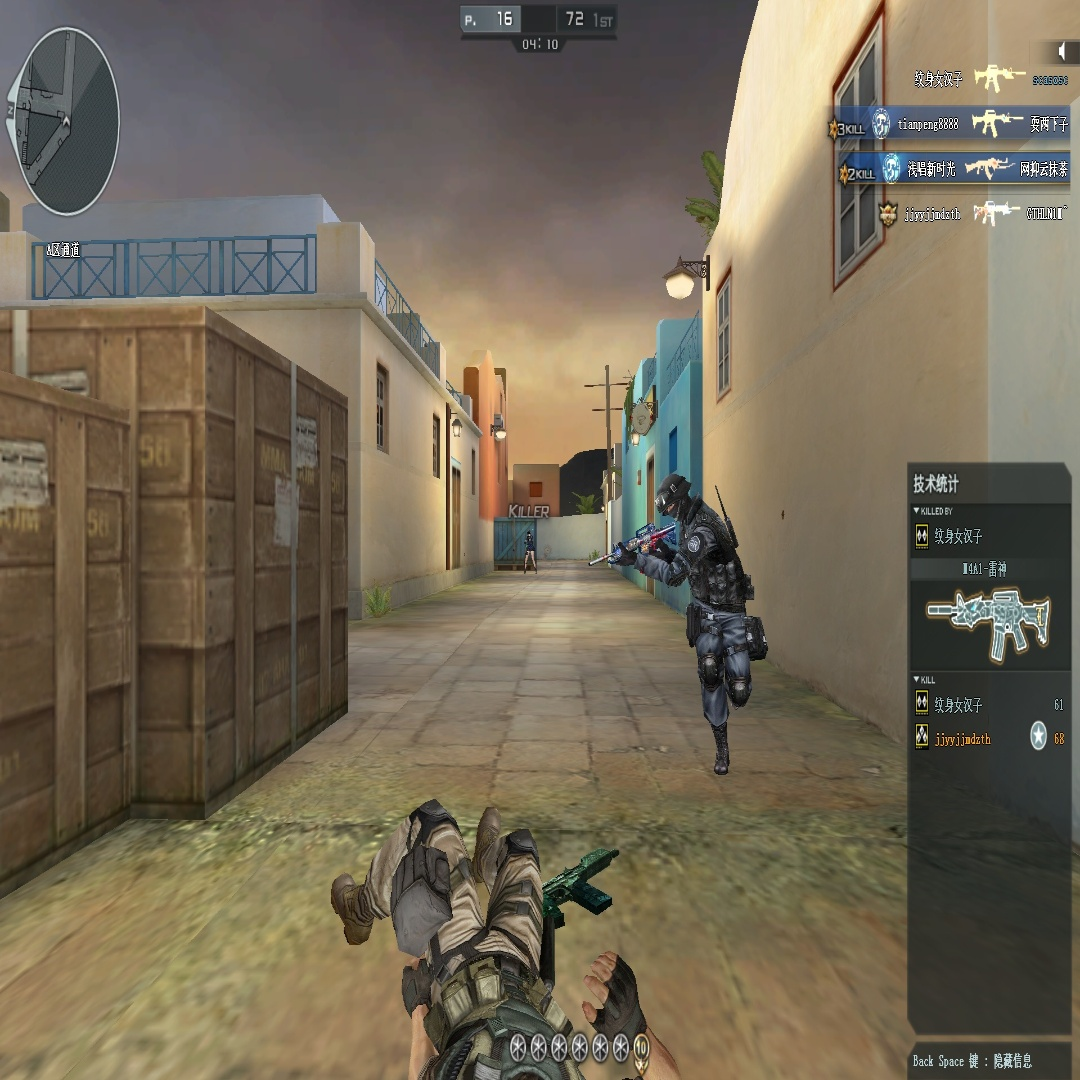head: (656, 476, 691, 525), (526, 529, 531, 537)
p: (654, 474, 757, 776), (524, 525, 537, 572)
